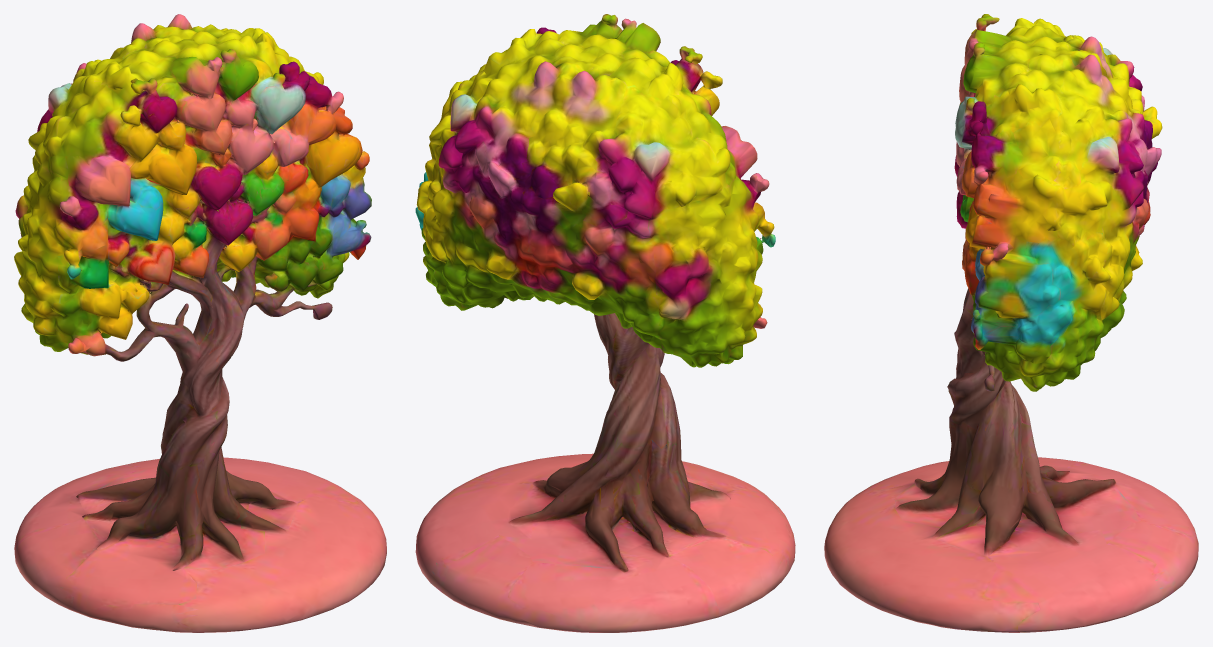
Rendered from lp_tree.glb.
3 views of the same model, side by side, from view 1: azimuth 30°, elevation 25°; view 2: azimuth 150°, elevation 25°; view 3: azimuth 270°, elevation 25° (orthographic).
Size of the model in its own units: 1.26 by 1.9 by 1.25.
1 material, 1 textured.
